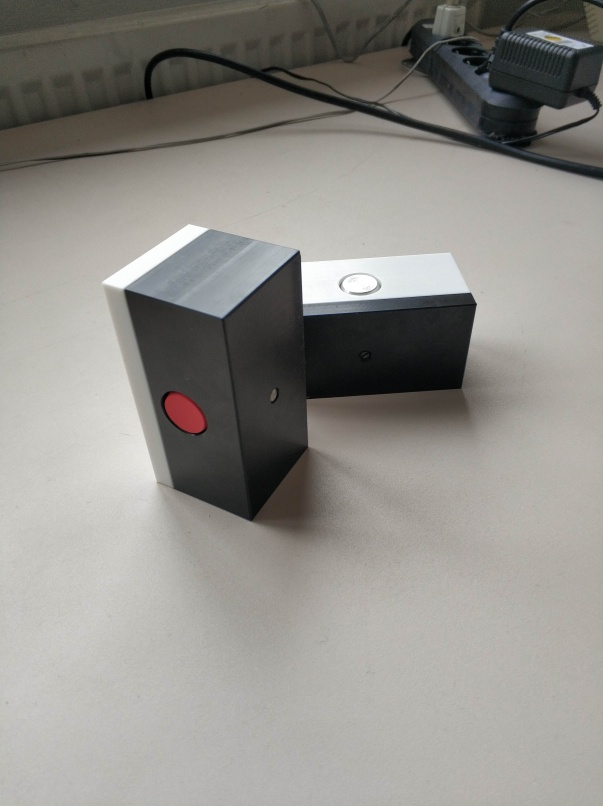black+white+silver: (304, 248, 480, 402)
white+black+red: (96, 221, 312, 526)
